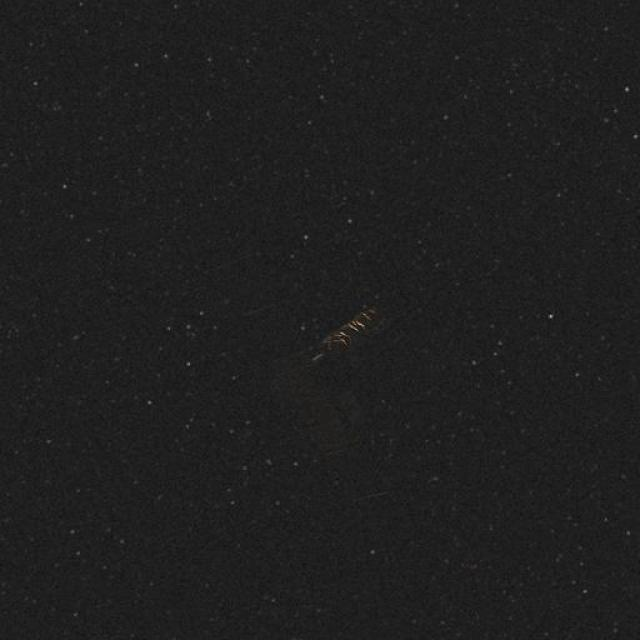soho: (250, 296, 472, 450)
